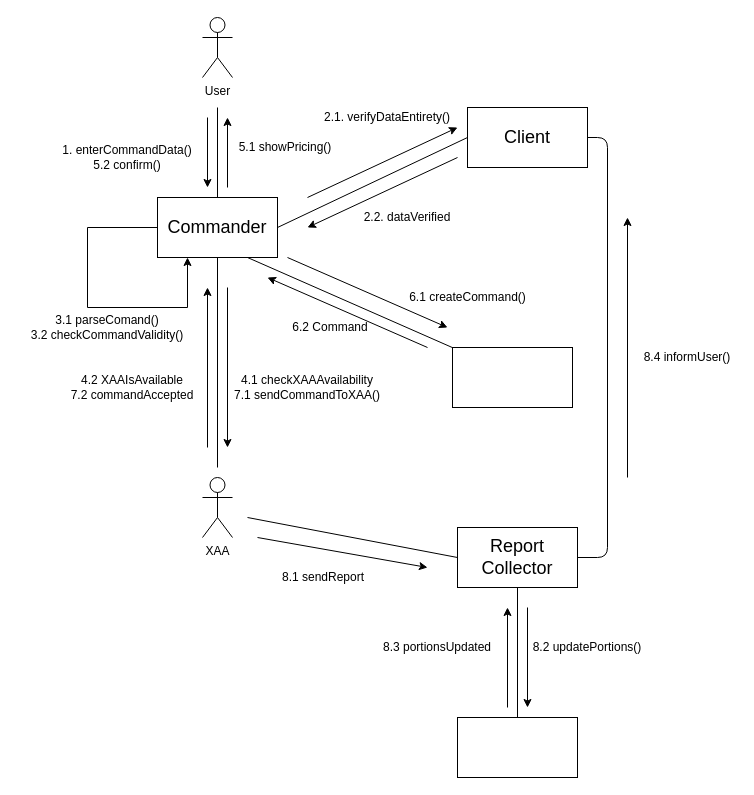
Some shapes in this 754 by 795 pixel diagram are drawn without their labels. Here are the shapes that lost their labels. From the top down, the centre of each, then its label:
At [512,377]: "Transaction Command".
At [517,747]: "Client Portions".
